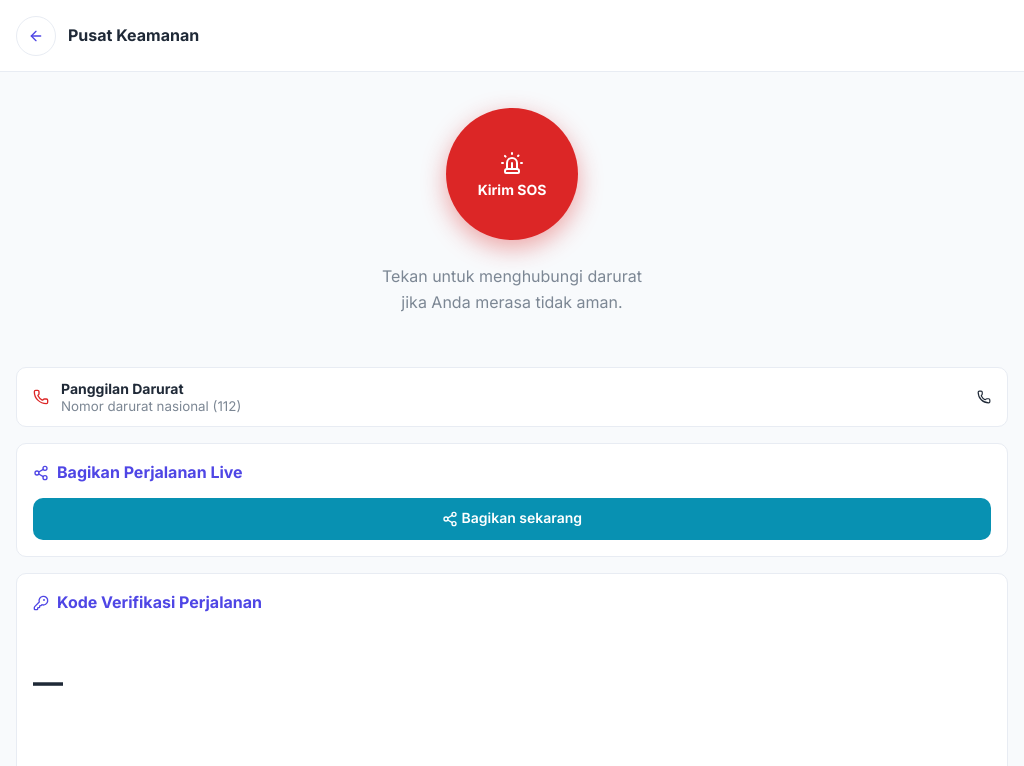
Test: SafetyCenter (3C-3F) › shares live trip and shows the link
The image size is (1024, 766).
Click the button "Bagikan sekarang" at (512, 519), box [33,498,991,540]
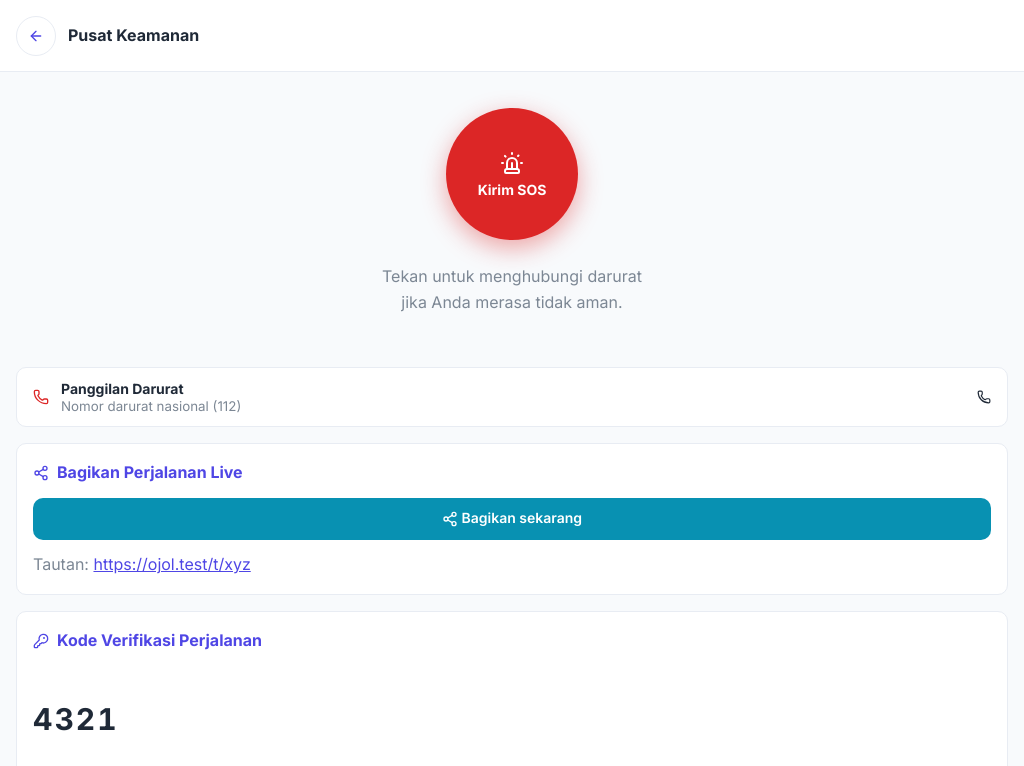
Expected: the link "https://ojol.test/t/xyz" is shown, [94,554,251,574]
